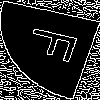F: (25, 24, 90, 67)
